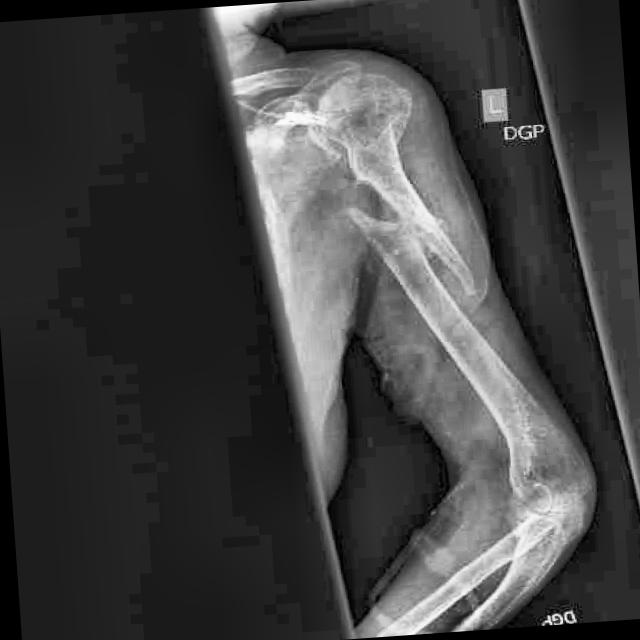humerus: (323, 160, 505, 369)
